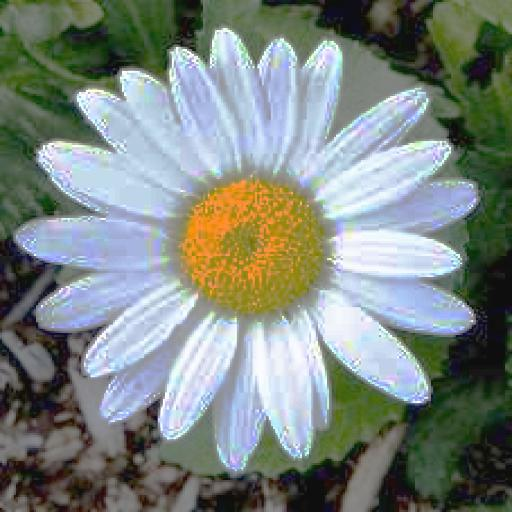daisy: (20, 28, 476, 469)
